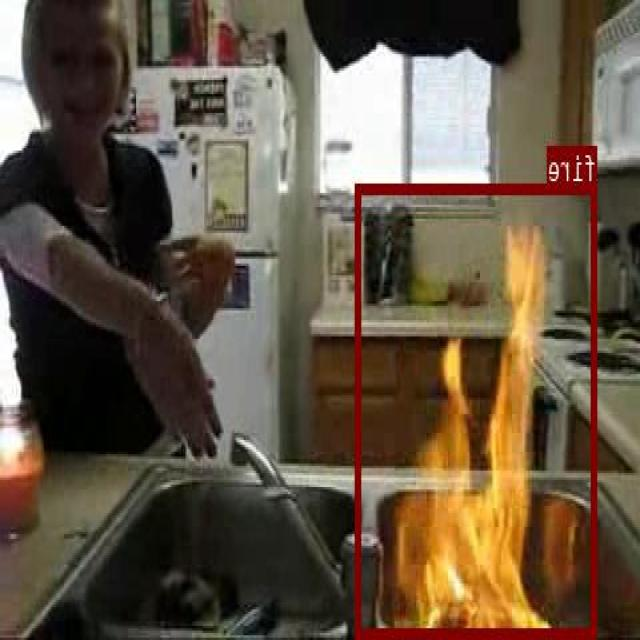fire: (358, 182, 598, 636)
